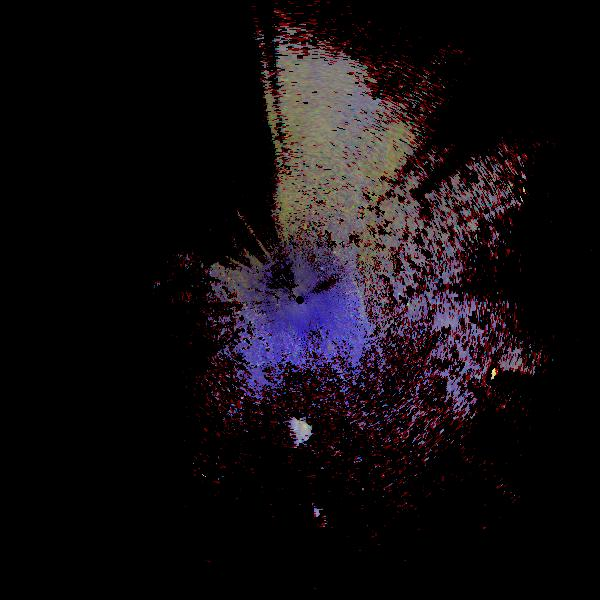roost: (285, 418, 309, 442), (314, 513, 320, 519)
